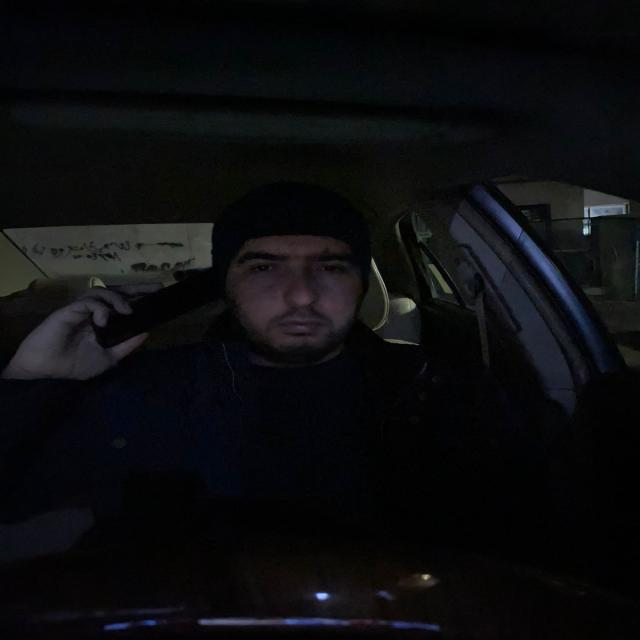phone: (89, 267, 224, 350)
